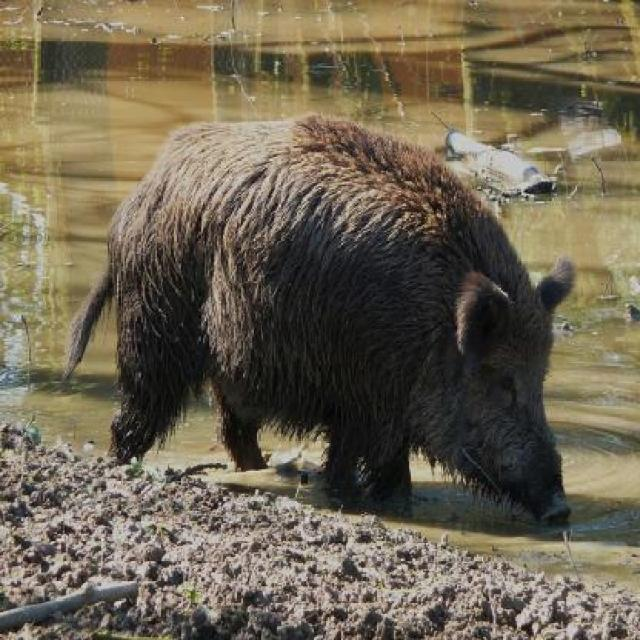wildboar: (55, 104, 579, 536)
